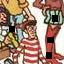waldo: (21, 19, 37, 39)
